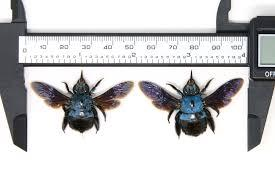Xylocopa: (135, 76, 251, 144), (36, 67, 121, 137)
